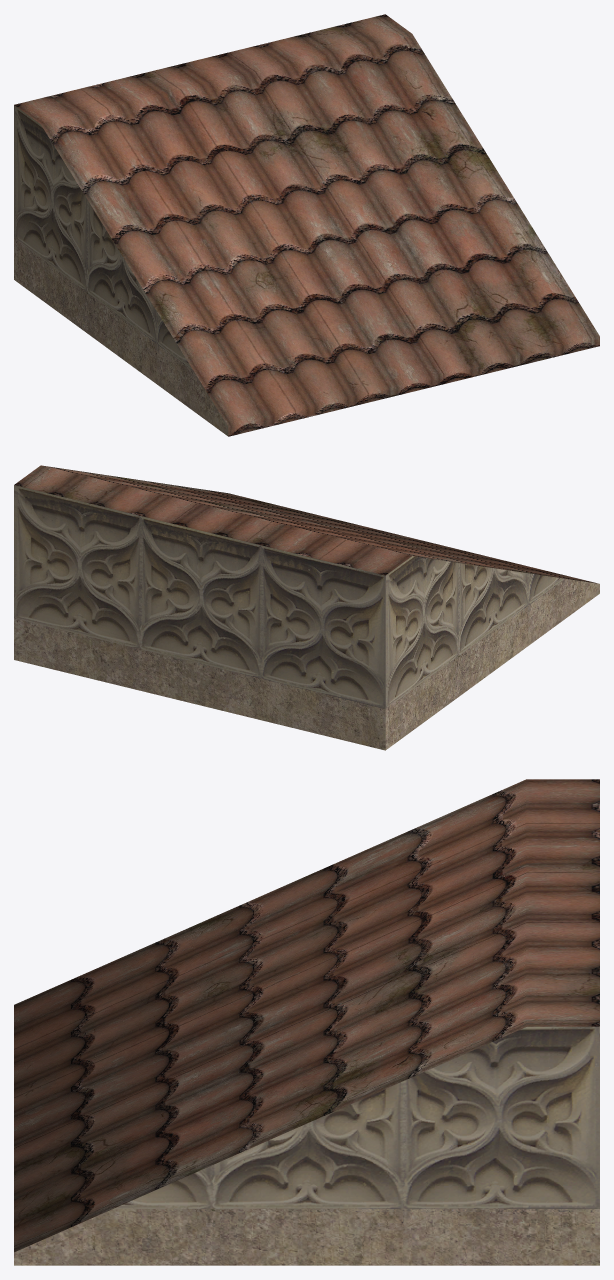
File: SH3D_Sparta_Roof2.obj
3 renders of one model, top to bottom at view 1: azimuth 30°, elevation 25°; view 2: azimuth 150°, elevation 25°; view 3: azimuth 270°, elevation 25°, orthographic. The views are drawn at different scales.
Visible parts, largest first — view 1: Base_TileRoof0, Base_RoofTrim0; view 2: Base_RoofTrim0, Base_TileRoof0; view 3: Base_TileRoof0, Base_RoofTrim0.
Part boxes in pixels (<box>): Base_TileRoof0: <box>14,14,599,436</box>; Base_RoofTrim0: <box>14,105,228,436</box>; Base_RoofTrim0: <box>14,485,599,750</box>; Base_TileRoof0: <box>14,465,597,583</box>; Base_TileRoof0: <box>14,779,599,1252</box>; Base_RoofTrim0: <box>14,1026,599,1265</box>.
Bounding box in the file's own units: 2 × 0.9 × 2.
3 materials, 3 textured.
